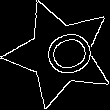O_W: (27, 24, 92, 84)
